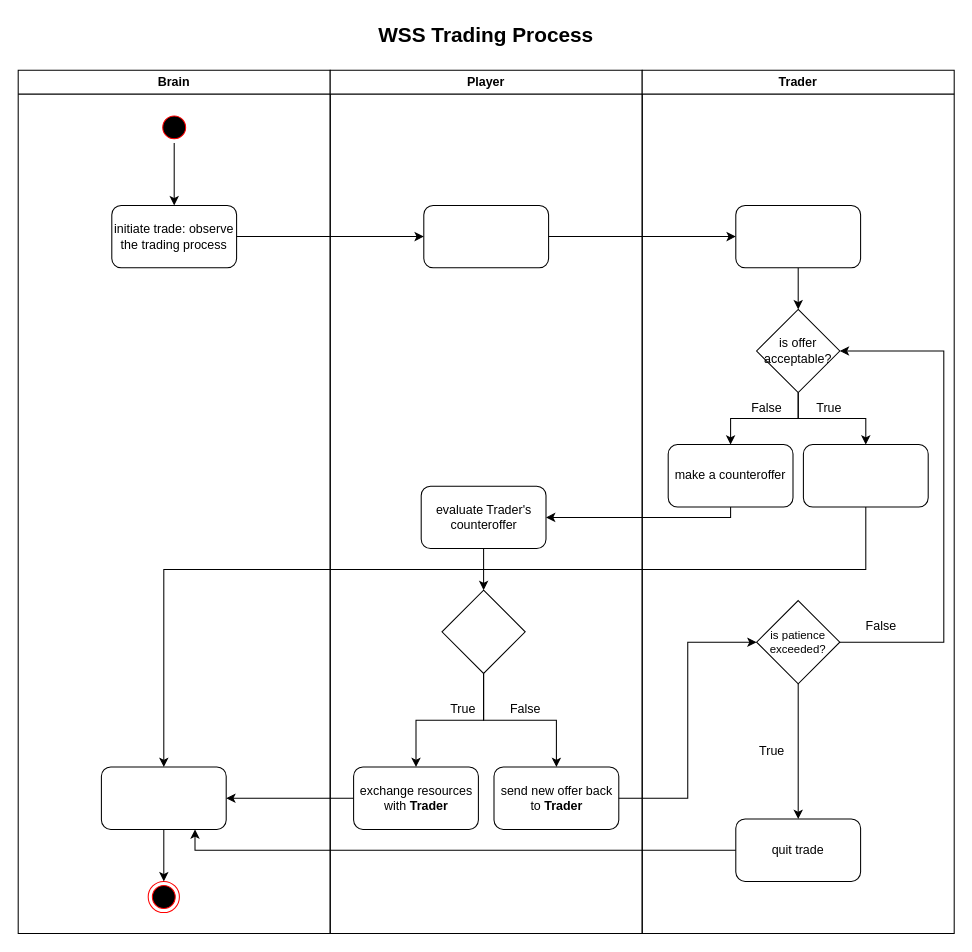
Some shapes in this 972 by 952 pixel diagram are drawn without their labels. Here are the shapes that lost their labels. From the top down, the box of each, then its label:
(423, 204, 549, 268): propose an offer of food, water, or gold to the trader
(735, 204, 861, 268): receive Player's offer and evaluate it
(802, 444, 928, 507): exchange resources with Player
(441, 589, 525, 673): accept counteroffer?
(100, 766, 226, 829): end of trade
